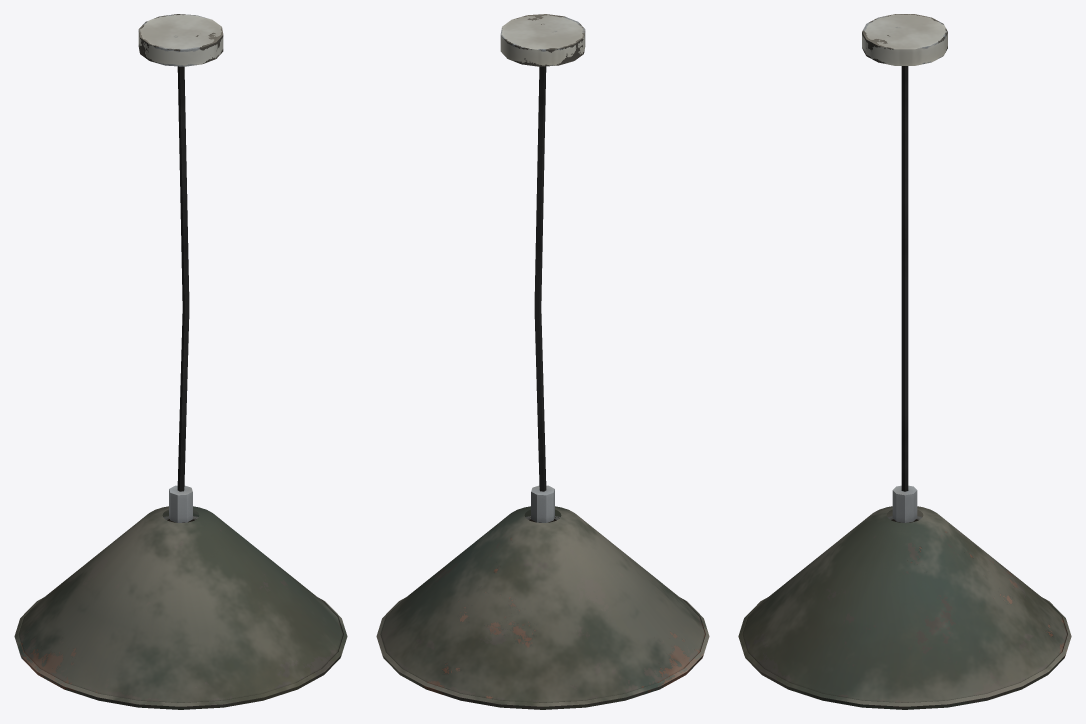
Rendered from LabLamp.fbx.
The picture shows the model from 3 angles, left to right: view 1: azimuth 30°, elevation 25°; view 2: azimuth 150°, elevation 25°; view 3: azimuth 270°, elevation 25°; orthographic projection.
Parts seen in each view (by area): view 1: Frame; view 2: Frame; view 3: Frame.
Boxes of the visible parts, box(x1,y1,x2,y2) form: Frame: box(14, 14, 347, 709); Frame: box(376, 14, 709, 709); Frame: box(738, 14, 1071, 709).
Bounding box in the file's own units: 1.63 × 3.61 × 1.63.
1 material, 1 textured.
